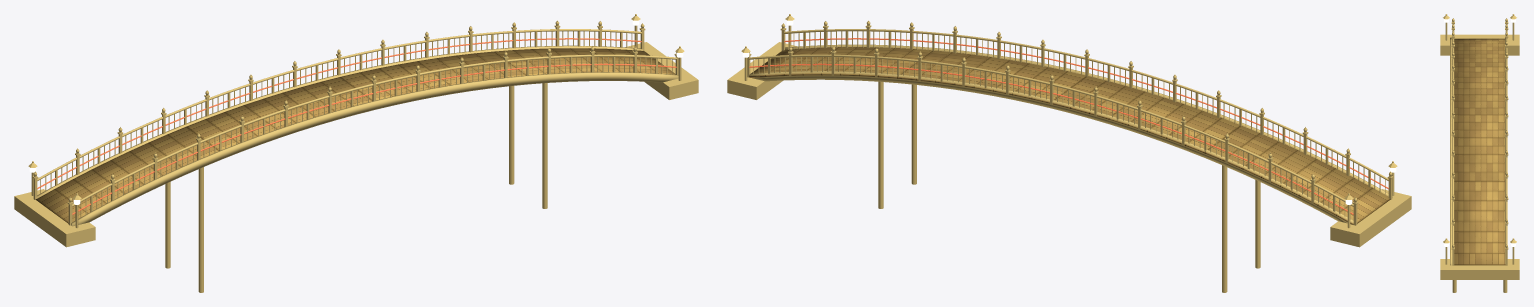
File: bridge_long.glb
3 renders of one model, left to right at view 1: azimuth 30°, elevation 25°; view 2: azimuth 150°, elevation 25°; view 3: azimuth 270°, elevation 25°, orthographic. The views are drawn at different scales.
Parts seen in each view (by area): view 1: deck, girder, girder.001, abutment, rail.002, rail, abutment.001, rail.003, rail.001, Cylinder.208, Cylinder.206, Cylinder.209 (+1 smaller); view 2: deck, girder.001, abutment, rail, rail.002, girder, abutment.001, rail.001, rail.003, Cylinder.209, Cylinder.207, Cylinder.208 (+1 smaller); view 3: deck, abutment.001, abutment, girder, rail, rail.002, girder.001.
Part boxes in pixels (x1,y1,x2,y2): deck: (35,48,675,223); girder: (71,72,678,226); girder.001: (36,45,643,198); abutment: (14,189,95,247); rail.002: (37,29,641,180); rail: (72,54,676,206); abutment.001: (625,42,698,99); rail.003: (37,38,641,189); rail.001: (72,63,676,214); Cylinder.208: (542,83,547,208); Cylinder.206: (198,167,203,292); Cylinder.209: (509,86,514,184); deck: (749,47,1390,224); girder.001: (749,71,1353,223); abutment: (1330,189,1411,247); rail: (784,29,1388,180); rail.002: (749,54,1353,206); girder: (785,44,1392,197); abutment.001: (727,42,797,99); rail.001: (784,38,1388,189); rail.003: (749,63,1353,214); Cylinder.209: (878,81,883,208); Cylinder.207: (1222,165,1227,292); Cylinder.208: (911,84,916,184); deck: (1454,38,1505,265); abutment.001: (1440,259,1519,279); abutment: (1440,34,1519,55); girder: (1450,37,1452,265); rail: (1452,31,1454,244); rail.002: (1505,31,1507,244); girder.001: (1505,37,1505,264).
Size of the model in its own units: 30.2 by 8.04 by 4.3.
Materials: 4 (1 with a texture image).
